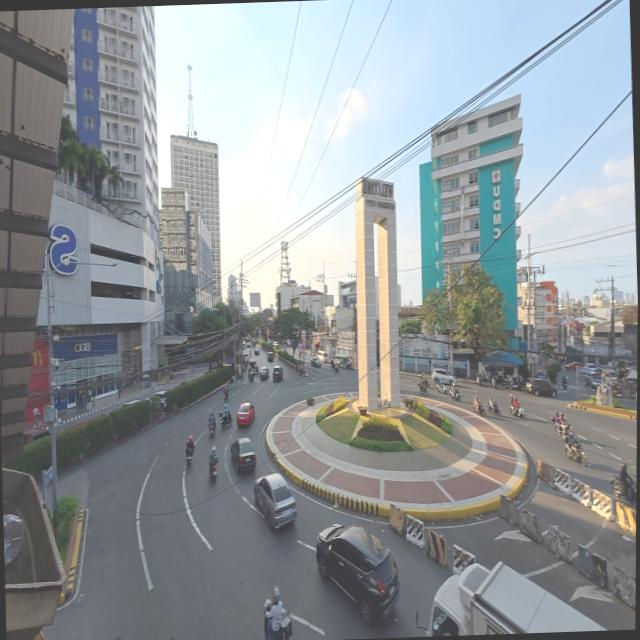Jeepneys: (333, 354, 352, 369), (247, 360, 257, 374)
car: (316, 524, 398, 623), (252, 473, 295, 528), (231, 438, 256, 472), (525, 379, 556, 396), (23, 426, 51, 444), (431, 368, 456, 384), (236, 403, 254, 425), (149, 390, 165, 409), (584, 372, 600, 388), (118, 400, 139, 409), (272, 366, 283, 381), (259, 366, 269, 380), (309, 357, 320, 368), (34, 631, 44, 639), (272, 340, 279, 350), (266, 352, 273, 362), (242, 353, 248, 364), (242, 340, 247, 350), (253, 348, 259, 356), (286, 340, 290, 347)
motorcycle: (609, 477, 635, 506), (272, 609, 290, 639), (565, 441, 586, 466), (555, 420, 570, 437), (491, 373, 507, 387), (219, 412, 231, 429), (488, 400, 500, 416), (510, 405, 524, 418), (474, 401, 485, 417), (476, 373, 489, 386), (508, 377, 520, 390), (185, 447, 193, 465), (436, 380, 446, 394), (208, 417, 215, 436), (209, 461, 216, 480), (418, 383, 428, 396), (450, 390, 460, 402), (223, 388, 229, 401), (562, 376, 566, 390), (247, 371, 252, 382), (334, 364, 339, 374)
trucks: (425, 562, 604, 636)
vans: (600, 370, 616, 383), (316, 350, 328, 362)
